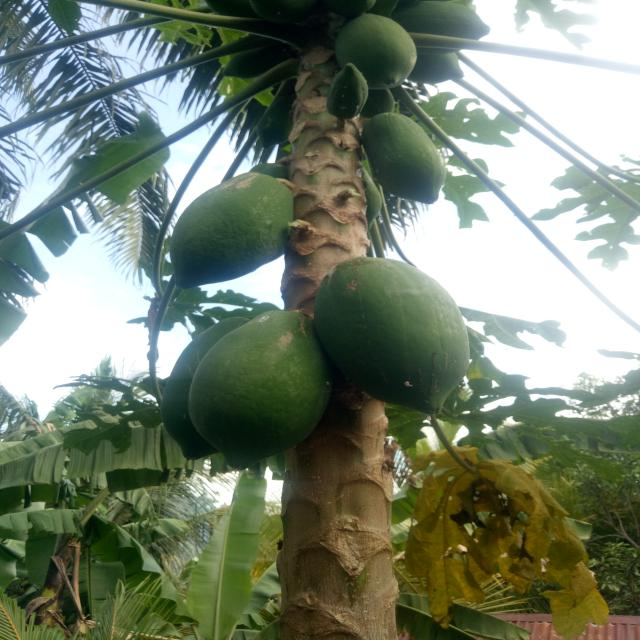Pepaya unrippen: (314, 252, 470, 421), (168, 174, 294, 295), (182, 313, 312, 423), (360, 116, 444, 210)
